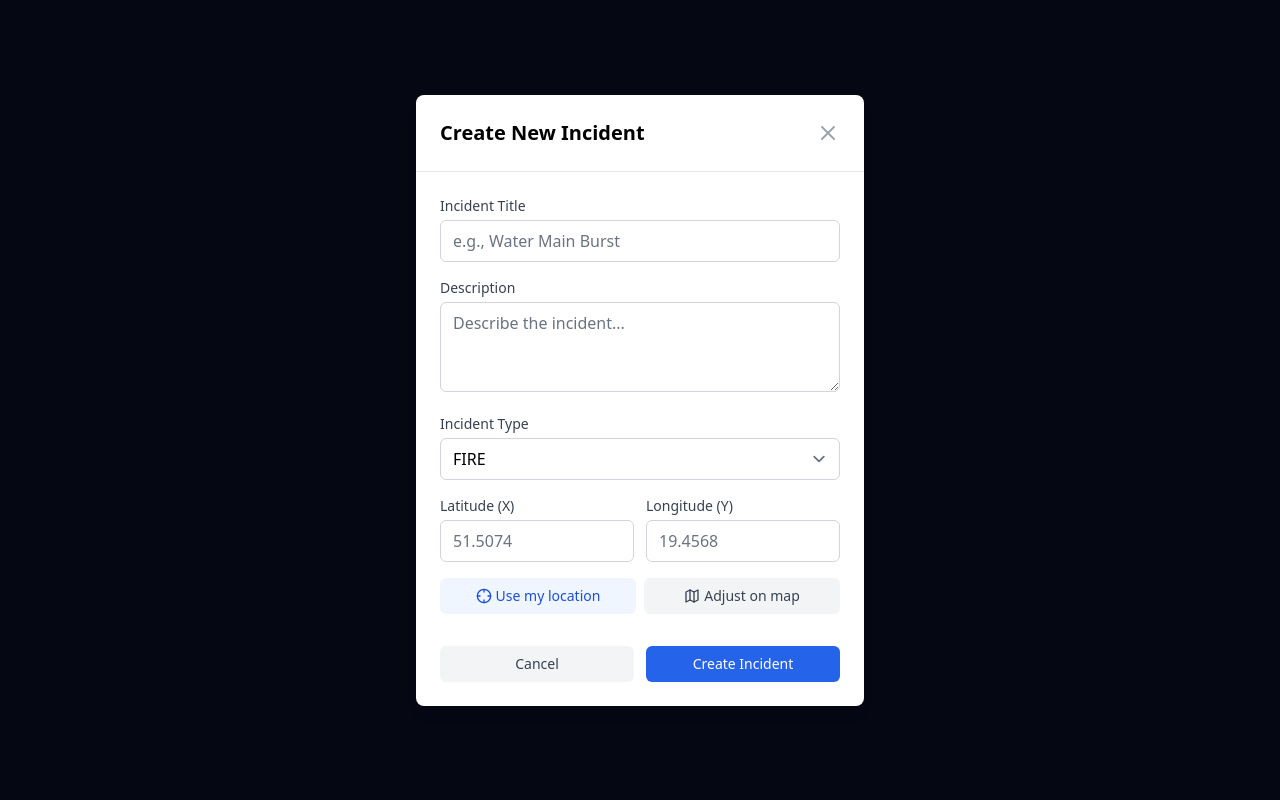
Test: CreateIncidentModal › fills the location from GPS on request
What coordinates should you click on to do the following:
click the button "Use my location"
I would click on:
 (538, 596)
Its box is [440, 578, 636, 614].
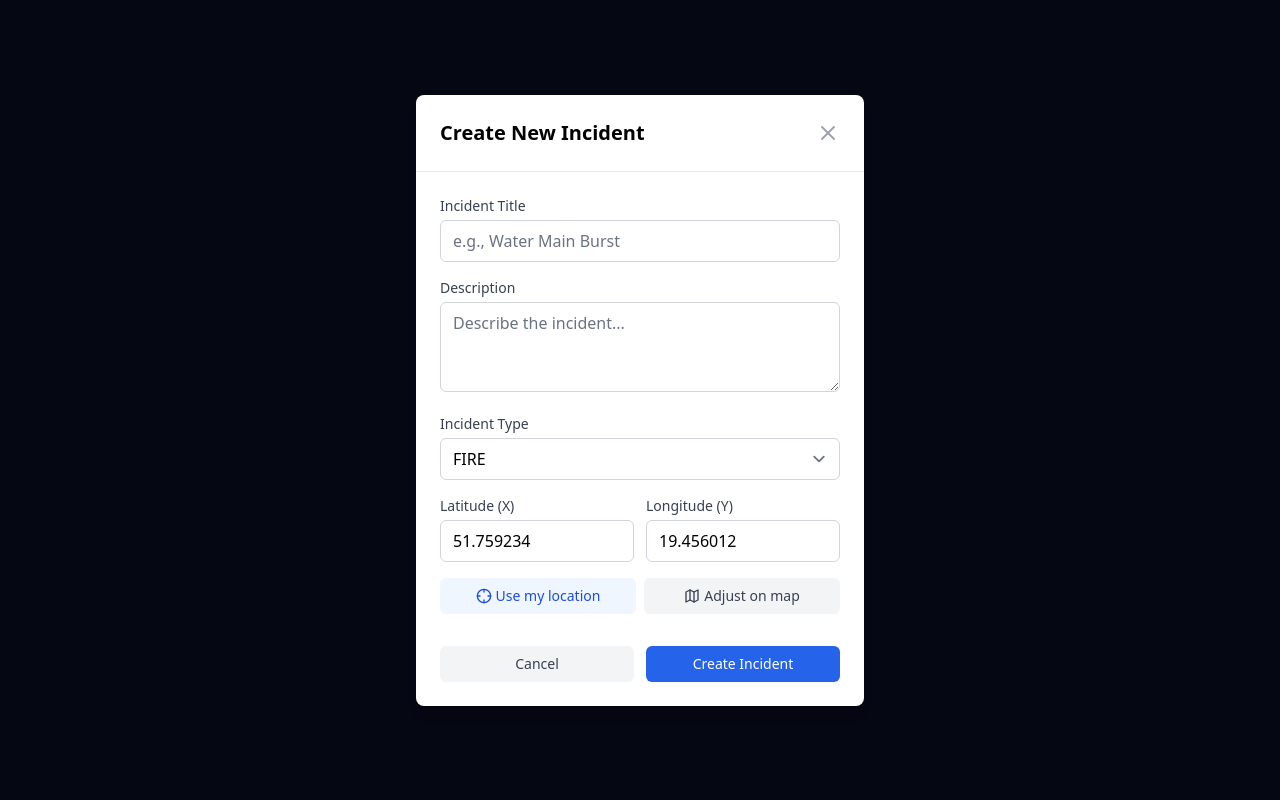
Now the number field with placeholder "51.5074" below "Latitude (X)" holds "51.759234", box [440, 520, 634, 562]
Now the number field with placeholder "19.4568" below "Longitude (Y)" holds "19.456012", box [646, 520, 840, 562]
